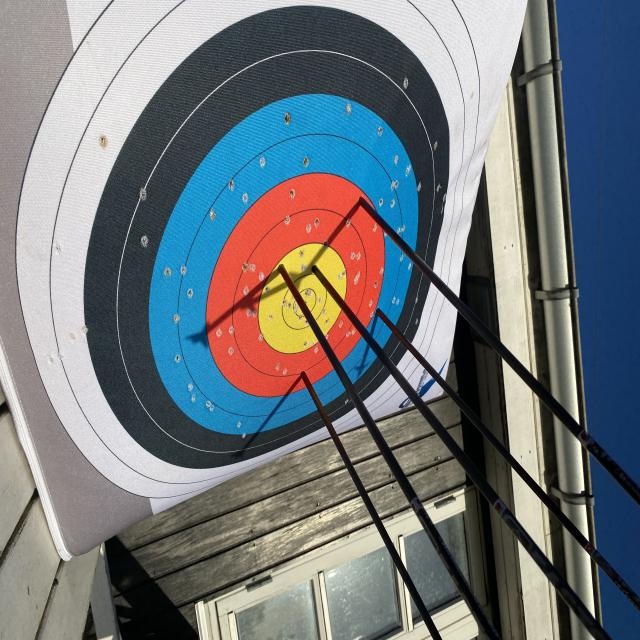Arrow_Blue: (370, 301, 388, 330)
Arrow_Red: (350, 187, 374, 218), (293, 364, 317, 388)
Arrow_Yellow: (302, 258, 323, 284), (272, 256, 288, 286)
